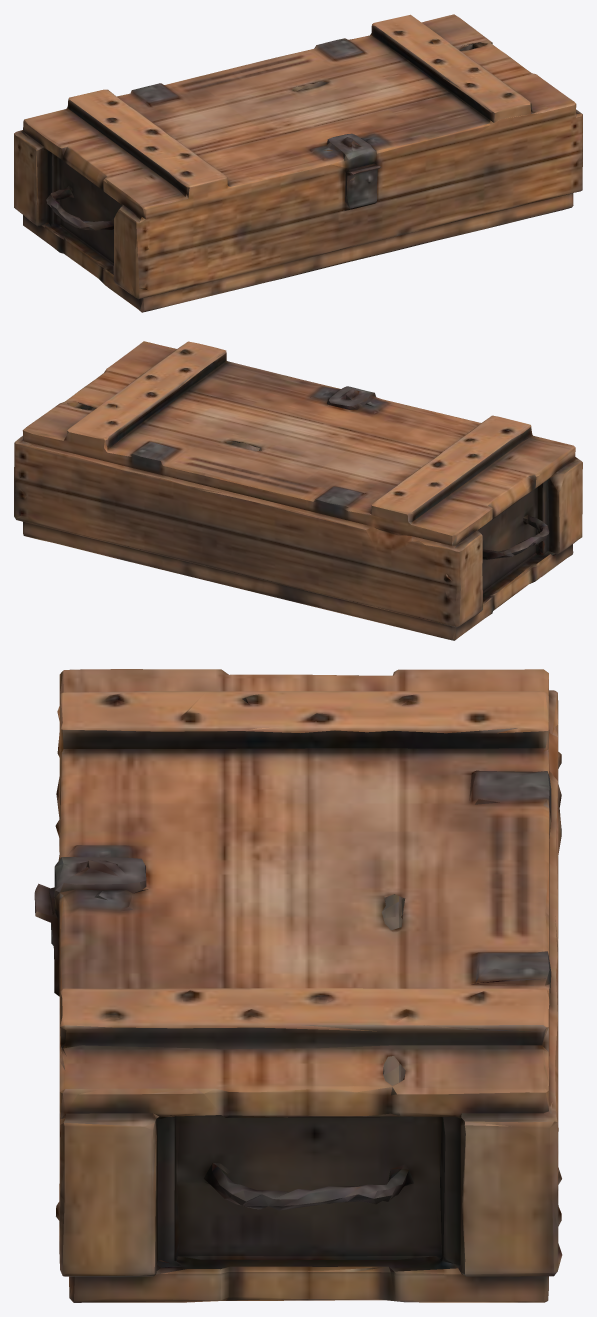
The model's file is cargo_wooden_crate_low.glb.
The picture shows the model from 3 angles, top to bottom: view 1: azimuth 30°, elevation 25°; view 2: azimuth 150°, elevation 25°; view 3: azimuth 270°, elevation 25°; orthographic projection. The views are drawn at different scales.
Visible parts, largest first — view 1: turn; view 2: turn; view 3: turn.
Part boxes in pixels (x1,y1,x2,y2): turn: [14, 14, 582, 312]; turn: [14, 341, 582, 640]; turn: [34, 669, 562, 1302].
Bounding box in the file's own units: 2.55 × 0.6 × 1.2.
1 material, 1 textured.
